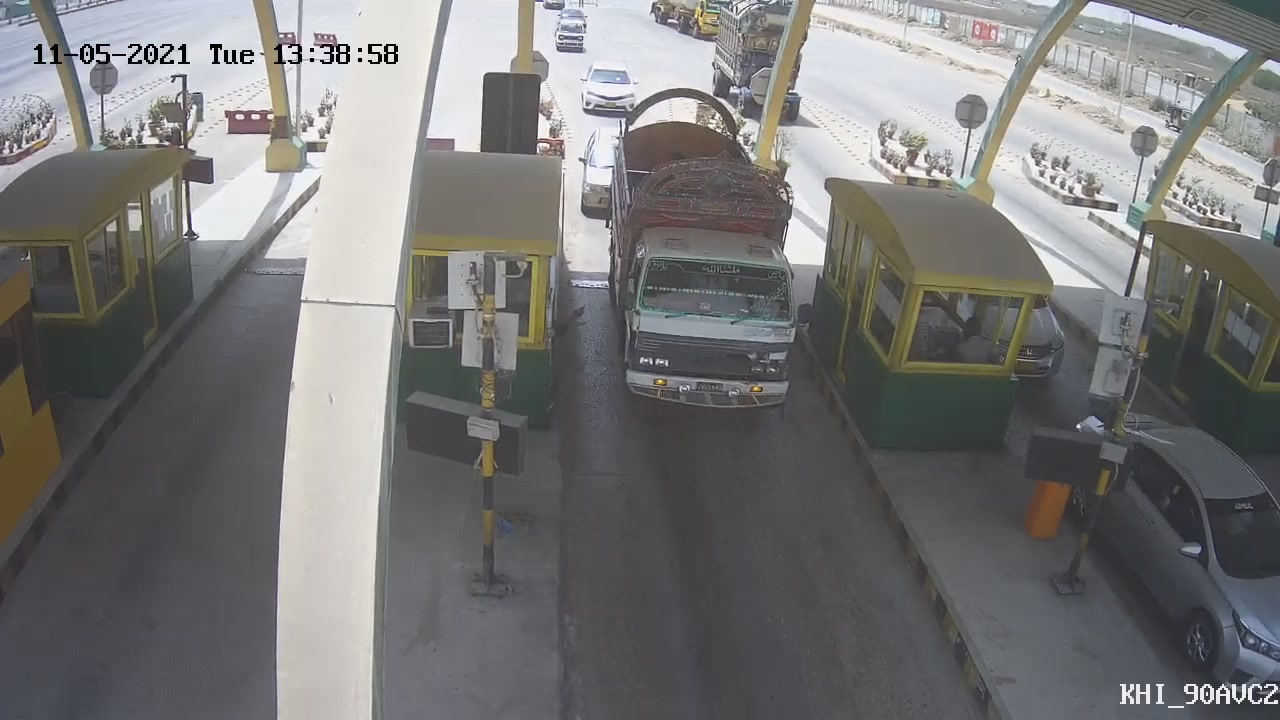F5: (596, 83, 814, 430)
